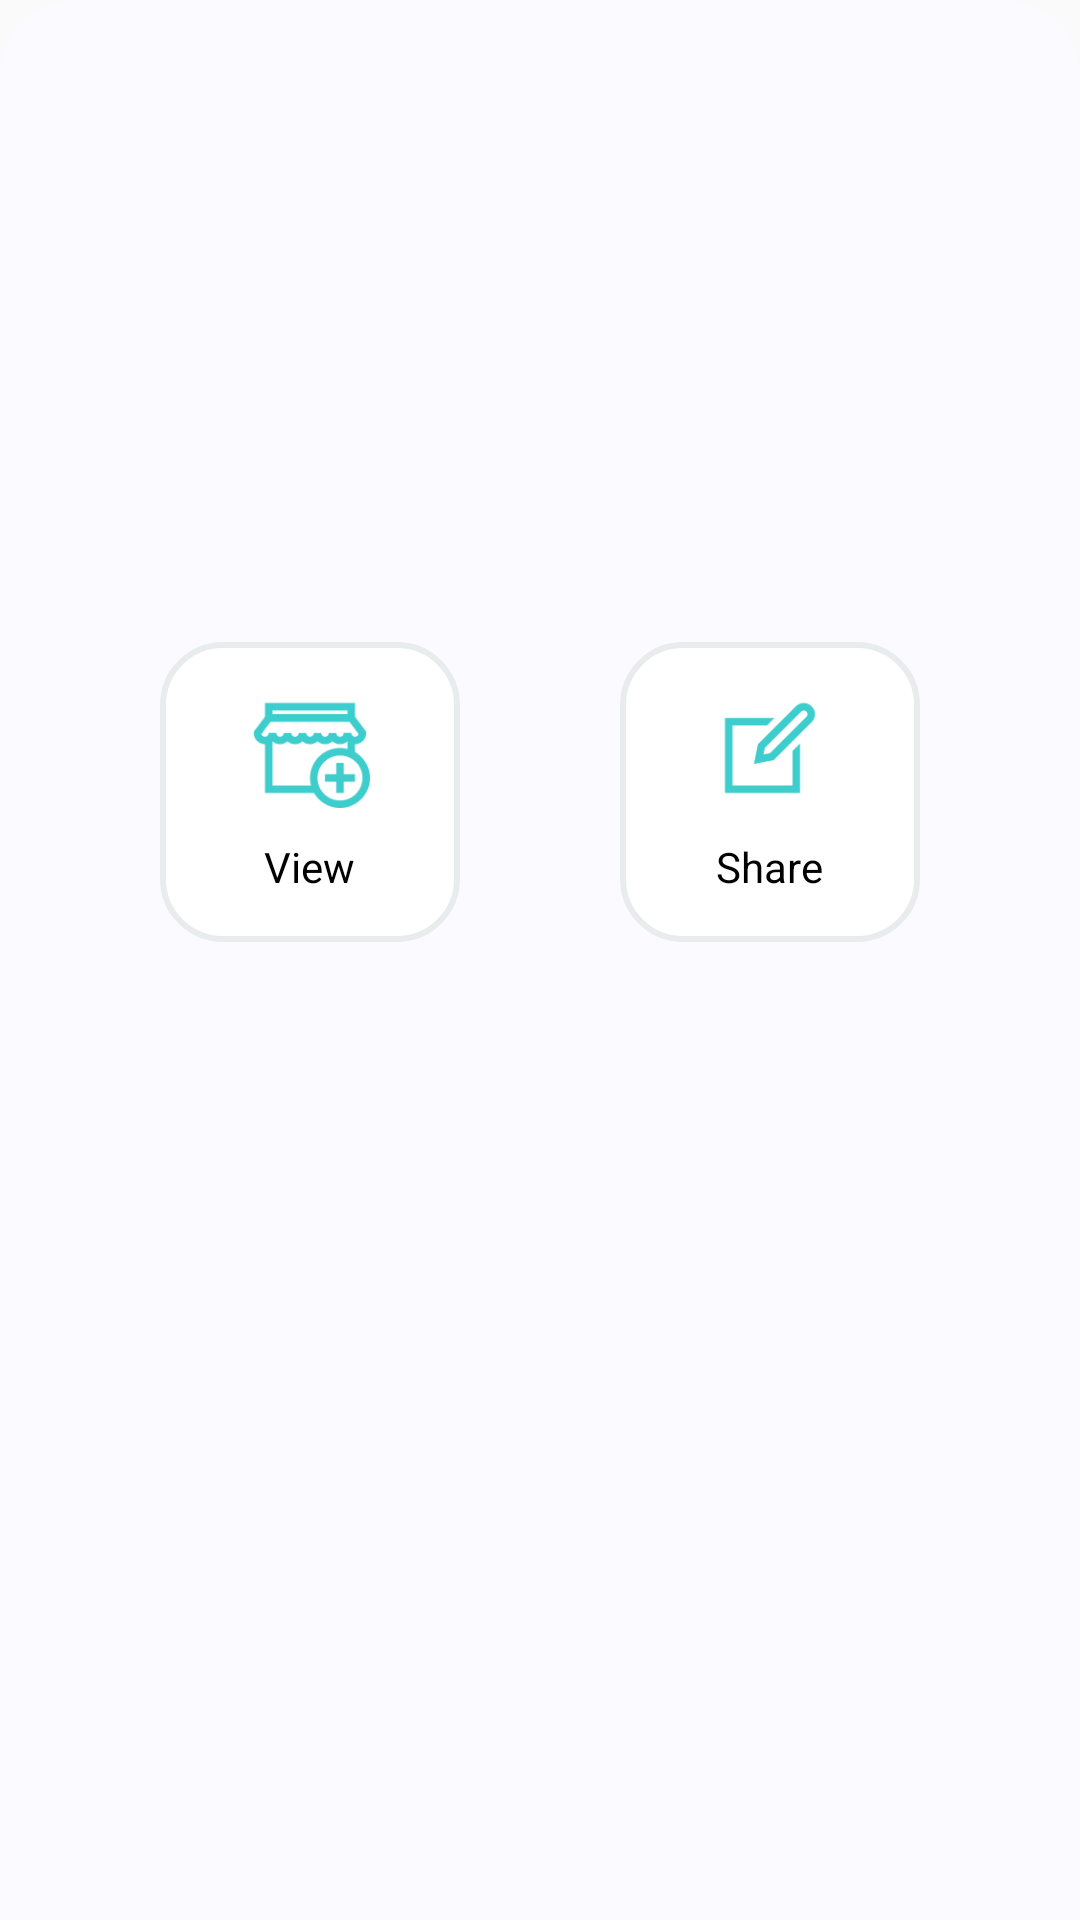

Icons on this 1080px×1920px Android screen, each with the point to tap as (x,y):
create: (770,748)
store: (311,755)
